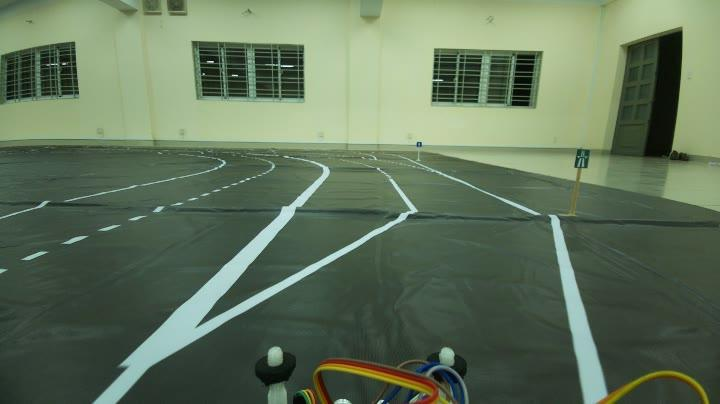highway_entry: (567, 143, 593, 171)
